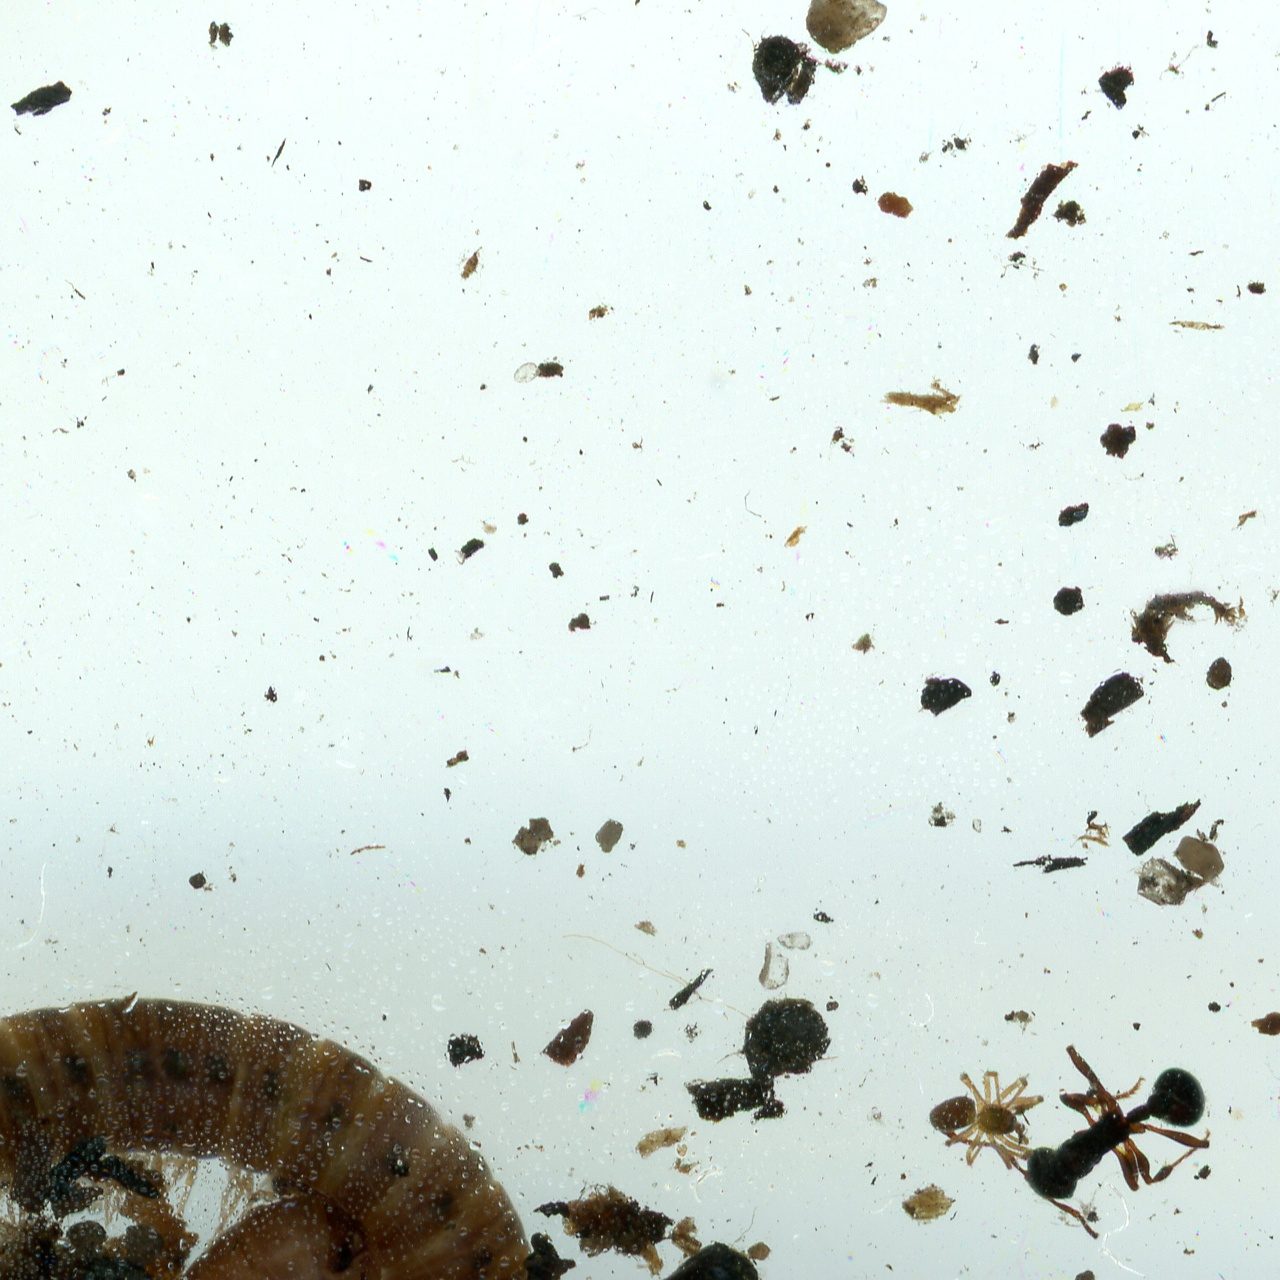arthropod: (0, 992, 546, 1280), (935, 982, 1241, 1279), (927, 1068, 1045, 1172)
